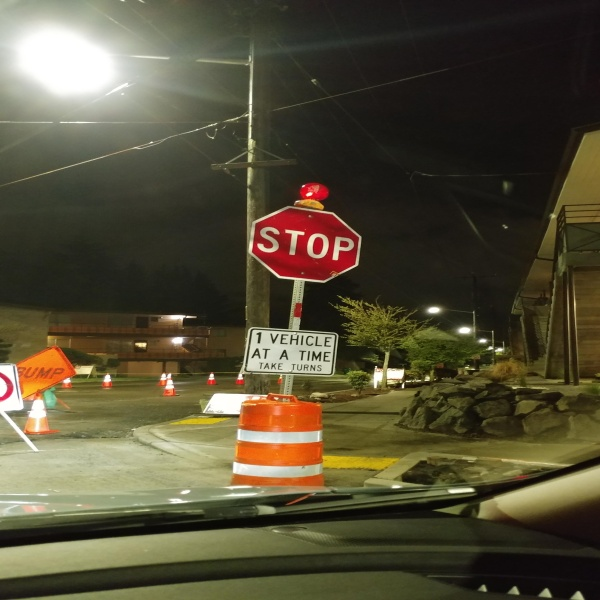stop: (250, 212, 360, 282)
